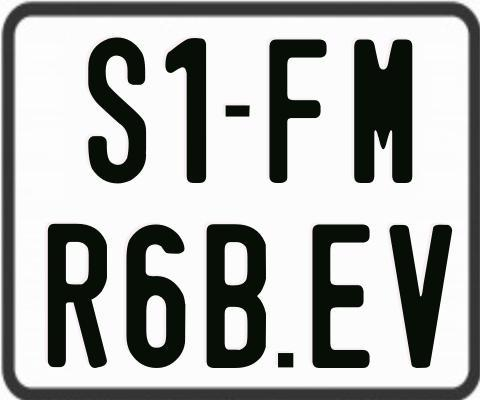1: (163, 37, 206, 188)
6: (125, 222, 185, 370)
B: (205, 223, 267, 367)
E: (310, 222, 369, 369)
F: (266, 36, 326, 182)
M: (352, 37, 416, 181)
R: (45, 223, 106, 369)
S: (86, 35, 145, 182)
V: (388, 225, 454, 374)
